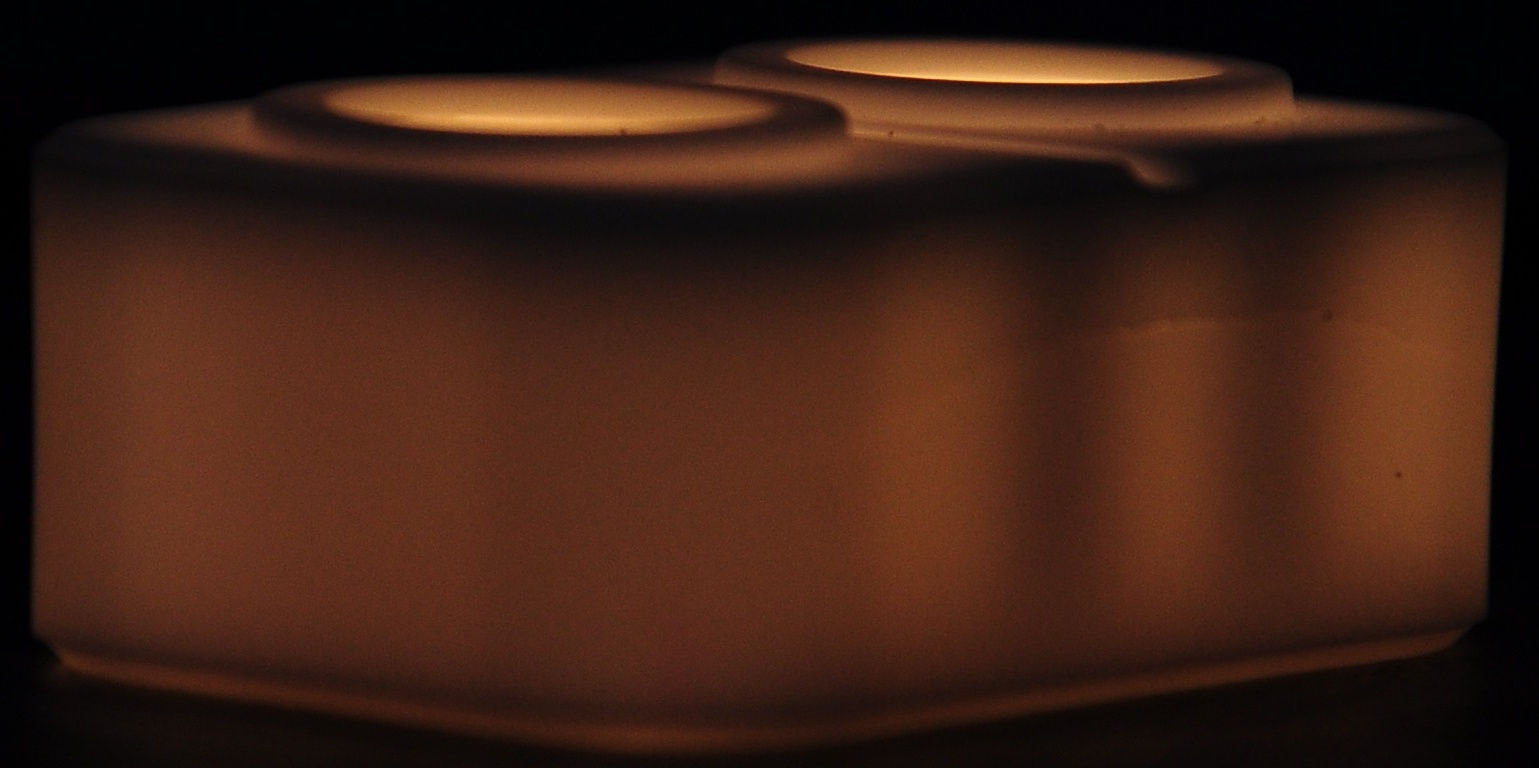flaw: (891, 271, 1432, 414)
